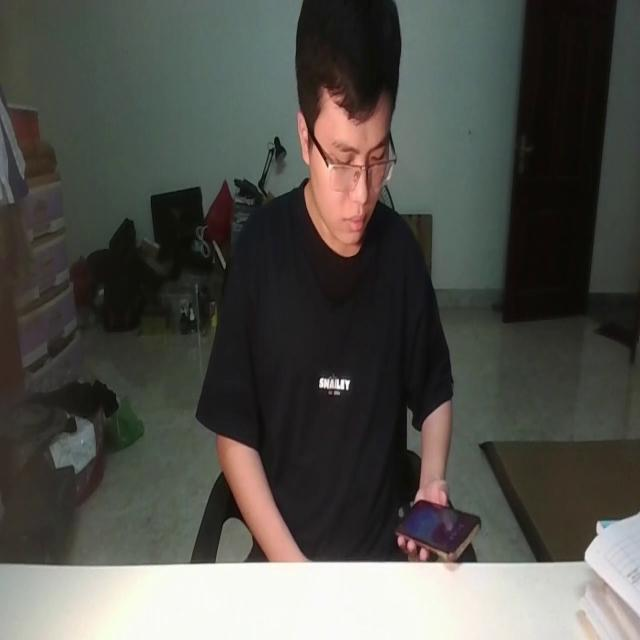phone: (392, 494, 483, 564)
student: (196, 0, 456, 560)
